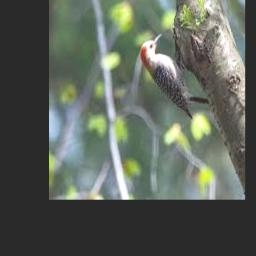Woodpecker: (141, 31, 210, 118)
